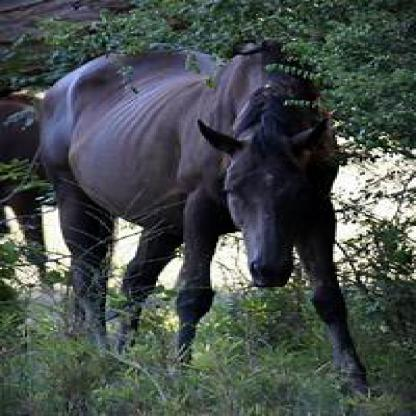horse: (37, 39, 370, 391)
